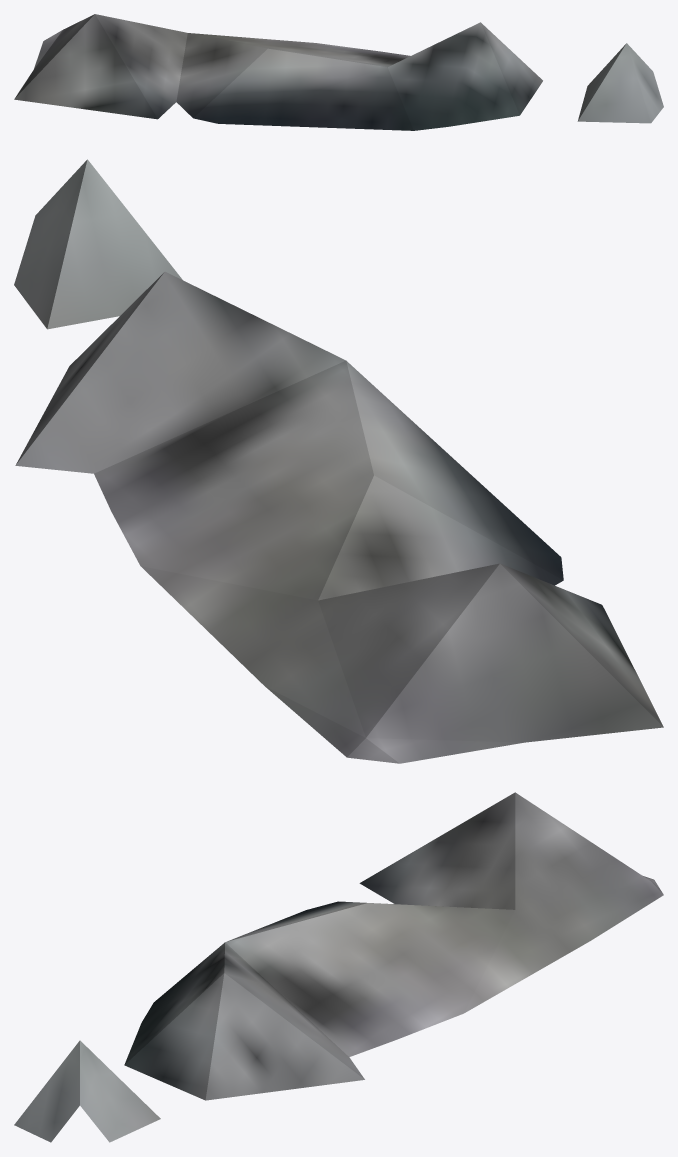
3 views of the same model, one above another, from view 1: azimuth 30°, elevation 25°; view 2: azimuth 150°, elevation 25°; view 3: azimuth 270°, elevation 25° (orthographic). The views are drawn at different scales.
Size of the model in its own units: 0.2143 by 0.0286 by 0.1855.
1 material, 1 textured.
